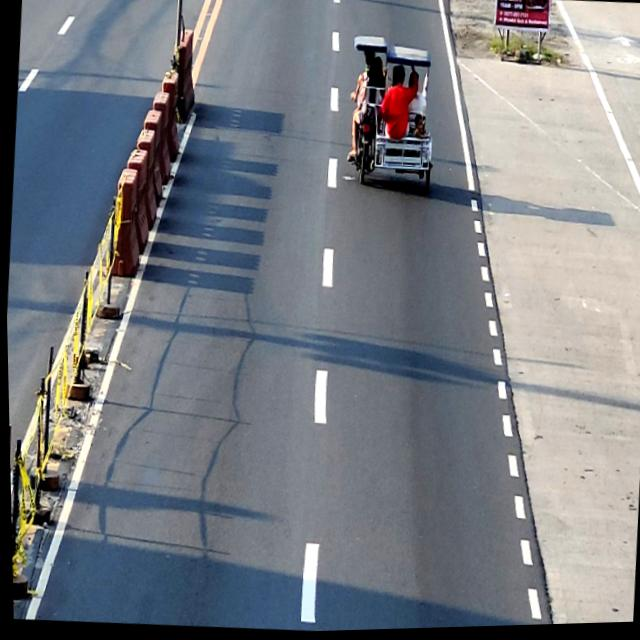Tricycle: (342, 35, 441, 199)
